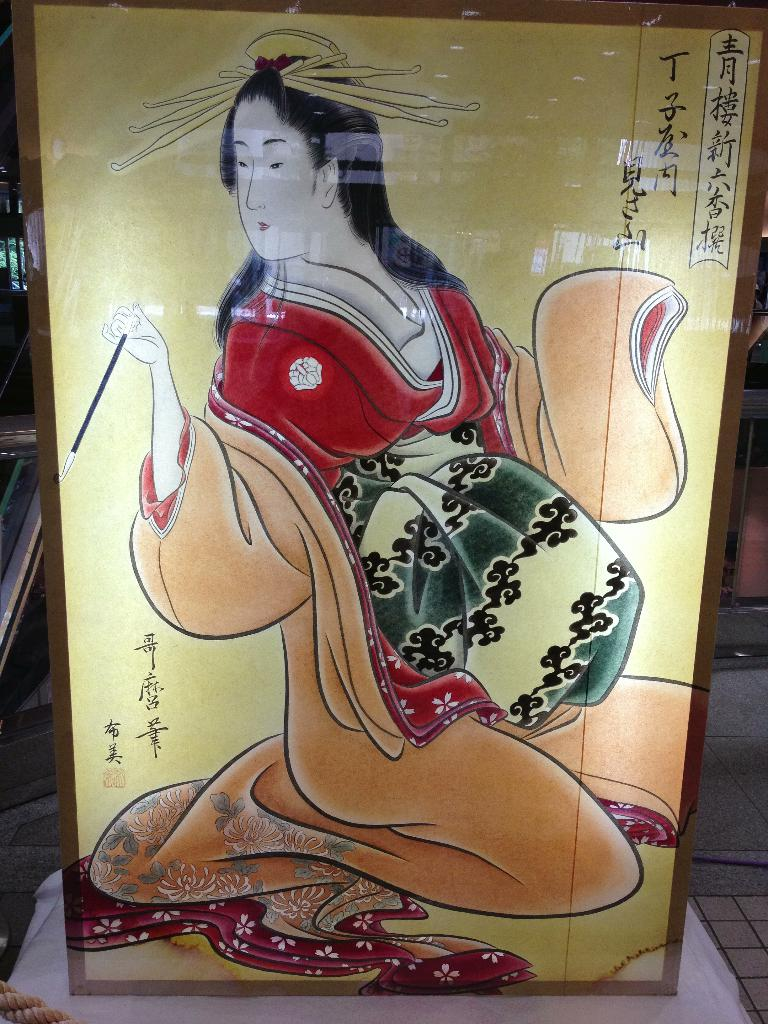face: (232, 96, 314, 263)
